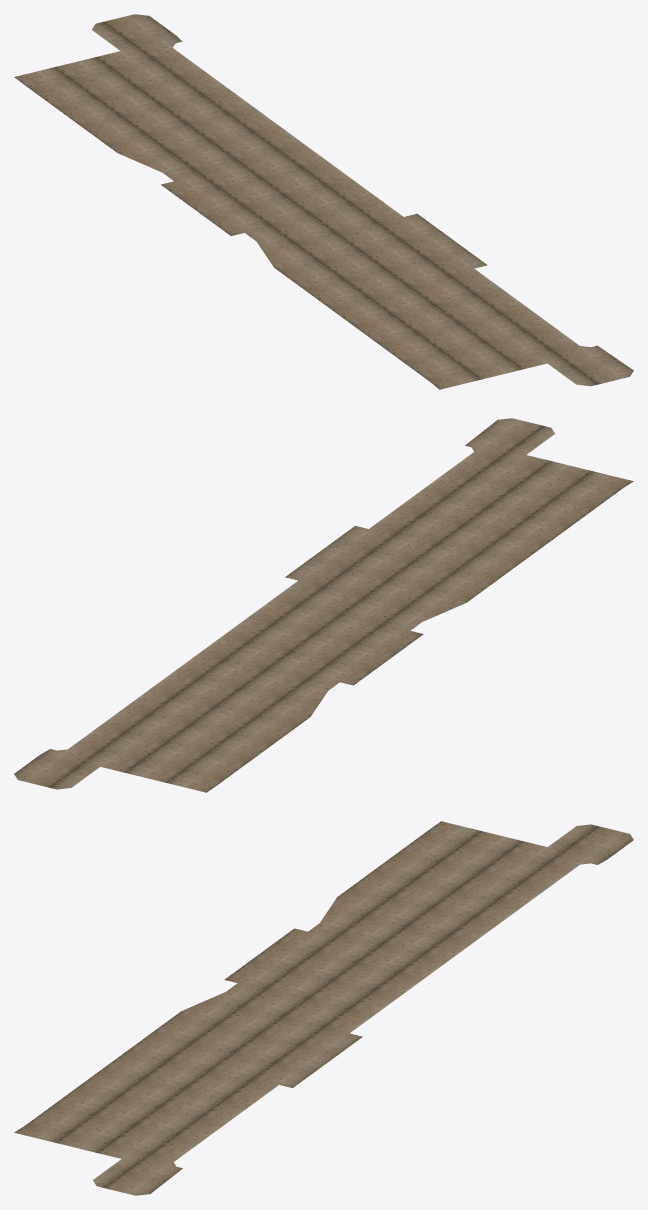
Rendered from M11_WallTop01.glb.
The picture shows the model from 3 angles, top to bottom: view 1: azimuth 30°, elevation 25°; view 2: azimuth 150°, elevation 25°; view 3: azimuth 330°, elevation 25°; orthographic projection.
Visible parts, largest first — view 1: M11_WALLTOP01; view 2: M11_WALLTOP01; view 3: M11_WALLTOP01.
Part boxes in pixels (x1,y1,x2,y2): M11_WALLTOP01: (14,14,633,389); M11_WALLTOP01: (14,418,633,792); M11_WALLTOP01: (14,821,633,1195).
Bounding box in the file's own units: 24.4 × 0 × 126.
1 material, 1 textured.
